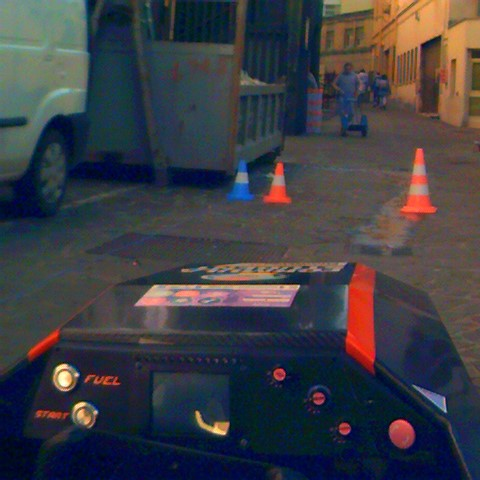cone: (225, 160, 254, 201)
